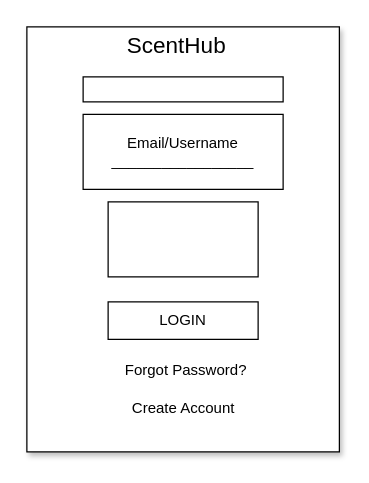
The diagram is 369 pixels wide and 483 high, and some of its shapes have lost their labels. Here are the shapes that lost their labels. From the top down, the centre of each, then its label:
the point at 182,89: Welcome Back
the point at 182,239: Password ______________
